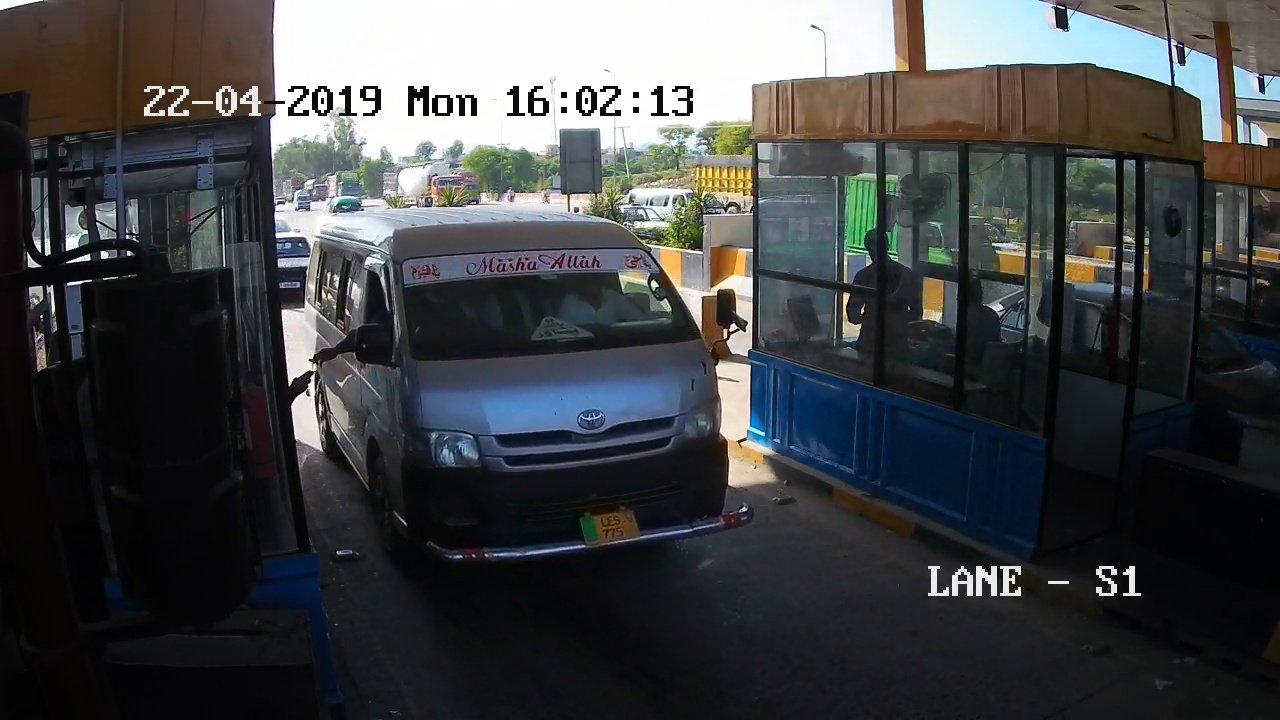car: (308, 222, 738, 583)
